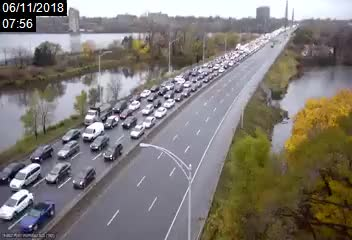congestion: (1, 123, 122, 229), (79, 83, 164, 134), (149, 72, 209, 99), (191, 59, 229, 76), (218, 51, 246, 63)
personal_car: (19, 200, 58, 230), (1, 189, 35, 217), (12, 163, 43, 190), (1, 159, 24, 185), (46, 162, 72, 184), (73, 166, 95, 189), (102, 142, 124, 161), (82, 122, 104, 141), (30, 145, 53, 163), (58, 141, 79, 157), (91, 134, 108, 151), (130, 123, 146, 140), (62, 128, 81, 142), (112, 99, 126, 112), (153, 106, 167, 118), (141, 102, 154, 114), (124, 116, 136, 129), (105, 116, 117, 128), (143, 115, 154, 128), (128, 101, 141, 111), (162, 98, 174, 108), (131, 93, 142, 103), (120, 107, 130, 118), (152, 98, 161, 110), (174, 83, 183, 93), (181, 88, 191, 97), (164, 89, 173, 99), (166, 83, 174, 92), (150, 83, 158, 92), (142, 89, 150, 98), (148, 93, 157, 101), (158, 86, 164, 96), (161, 80, 169, 87)
truck: (84, 104, 111, 127)
